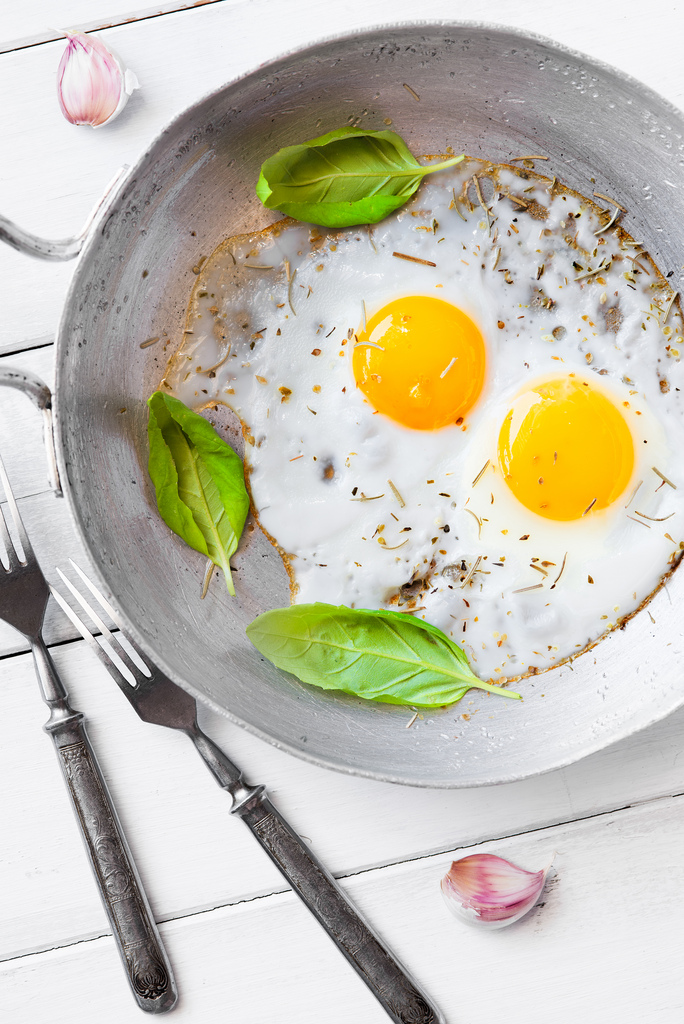fried egg: (245, 229, 495, 483), (494, 281, 652, 605)
